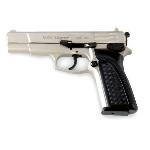Pistol: (4, 27, 138, 116)
